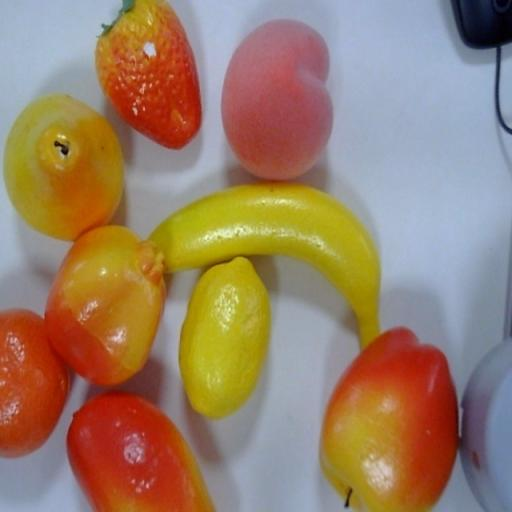Ripe: (136, 184, 425, 346), (316, 319, 476, 512), (56, 207, 166, 396), (218, 18, 340, 187), (7, 80, 132, 236), (94, 0, 212, 160), (72, 394, 223, 512), (174, 255, 270, 431), (2, 298, 71, 484)
